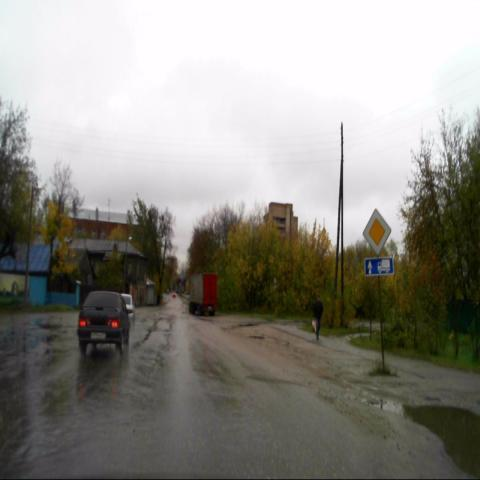6_15_1: (364, 257, 393, 278)
